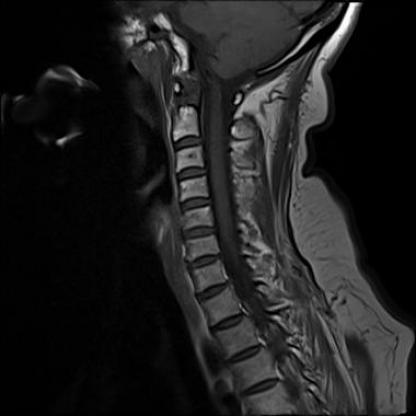Disc Bulgerotation: (184, 251, 225, 272), (180, 225, 216, 240)
